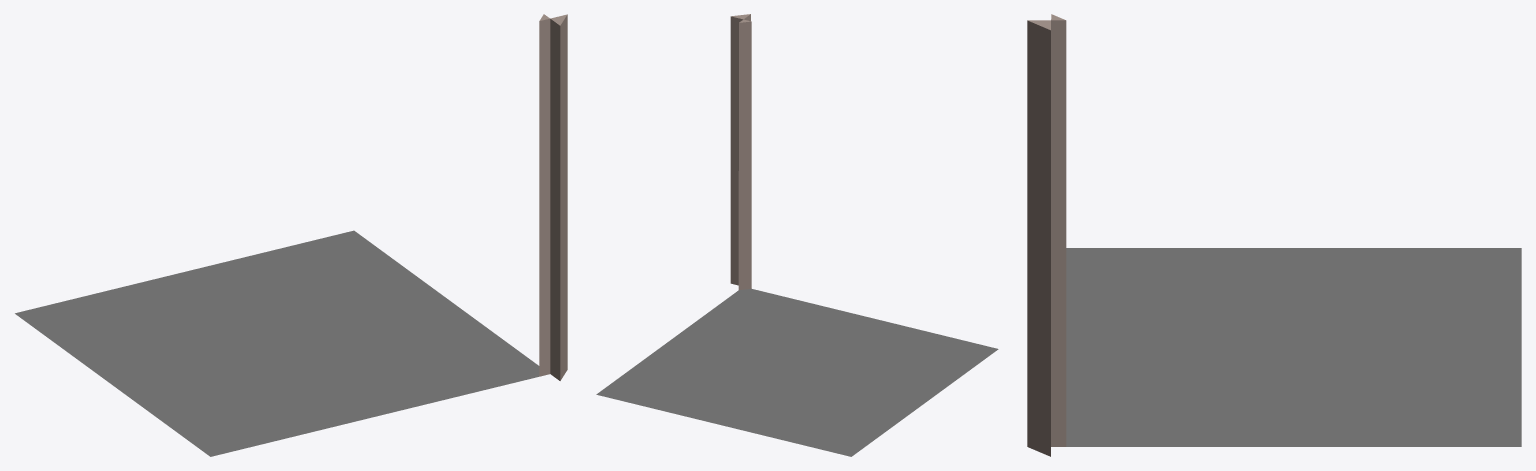
The model's file is wall_interiorCorner_mesh.fbx.
3 views of the same model, side by side, from view 1: azimuth 30°, elevation 25°; view 2: azimuth 150°, elevation 25°; view 3: azimuth 270°, elevation 25° (orthographic). The views are drawn at different scales.
Parts seen in each view (by area): view 1: wall_interiorCorner_mesh; view 2: wall_interiorCorner_mesh; view 3: wall_interiorCorner_mesh.
Part boxes in pixels (bbox=[...]): wall_interiorCorner_mesh: bbox=[15, 14, 567, 456]; wall_interiorCorner_mesh: bbox=[596, 14, 998, 456]; wall_interiorCorner_mesh: bbox=[1027, 14, 1521, 456].
Size of the model in its own units: 1.05 by 1 by 1.05.
